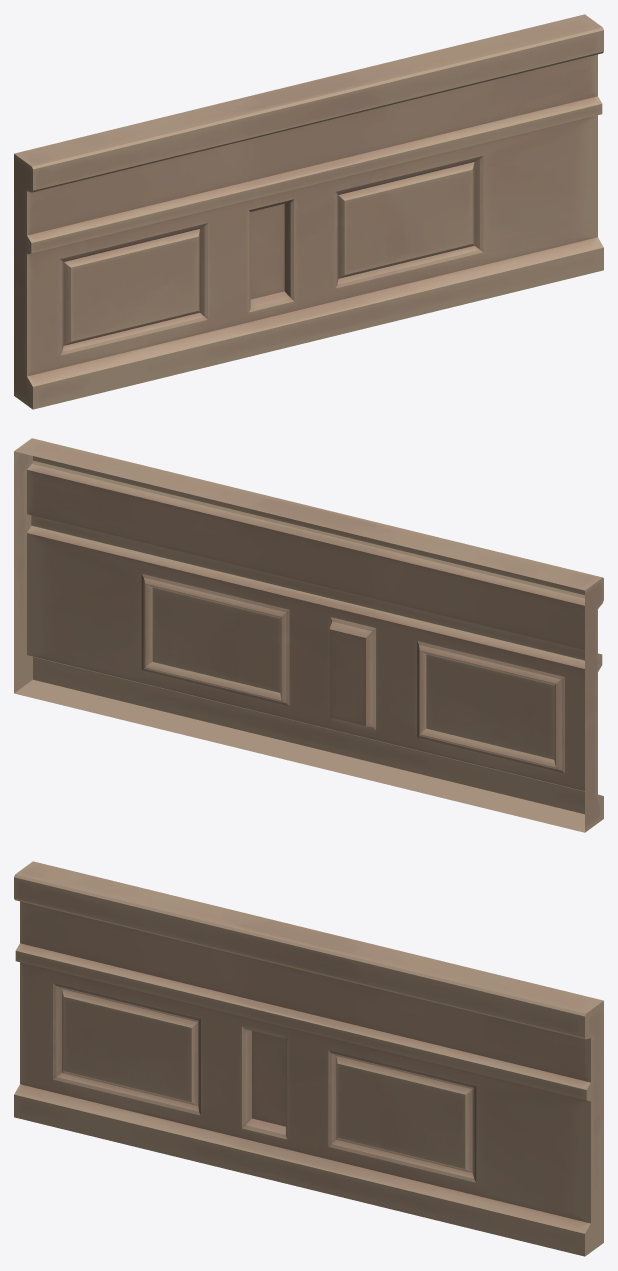
File: WallPanel (6).fbx
3 views of the same model, one above another, from view 1: azimuth 30°, elevation 25°; view 2: azimuth 150°, elevation 25°; view 3: azimuth 330°, elevation 25° (orthographic).
Parts seen in each view (by area): view 1: WallPanel (6); view 2: WallPanel (6); view 3: WallPanel (6).
Part boxes in pixels (x1,y1,x2,y2): WallPanel (6): (14,14,603,409); WallPanel (6): (14,438,603,832); WallPanel (6): (14,861,603,1256).
Bounding box in the file's own units: 933 × 378 × 53.95.
Materials: 1 (1 with a texture image).
